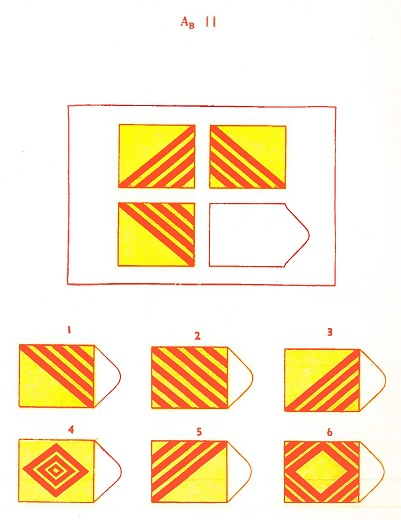Array 1: (15, 321, 125, 413)
Array 2: (147, 323, 258, 413)
Array 3: (279, 322, 390, 417)
Array 4: (14, 421, 126, 507)
Array 5: (147, 420, 255, 507)
Array 6: (278, 423, 390, 508)
Matrix 1: (112, 119, 199, 194)
Matrix 2: (205, 120, 292, 193)
Matrix 3: (114, 198, 199, 271)
Matrix Unknown: (205, 199, 313, 270)
